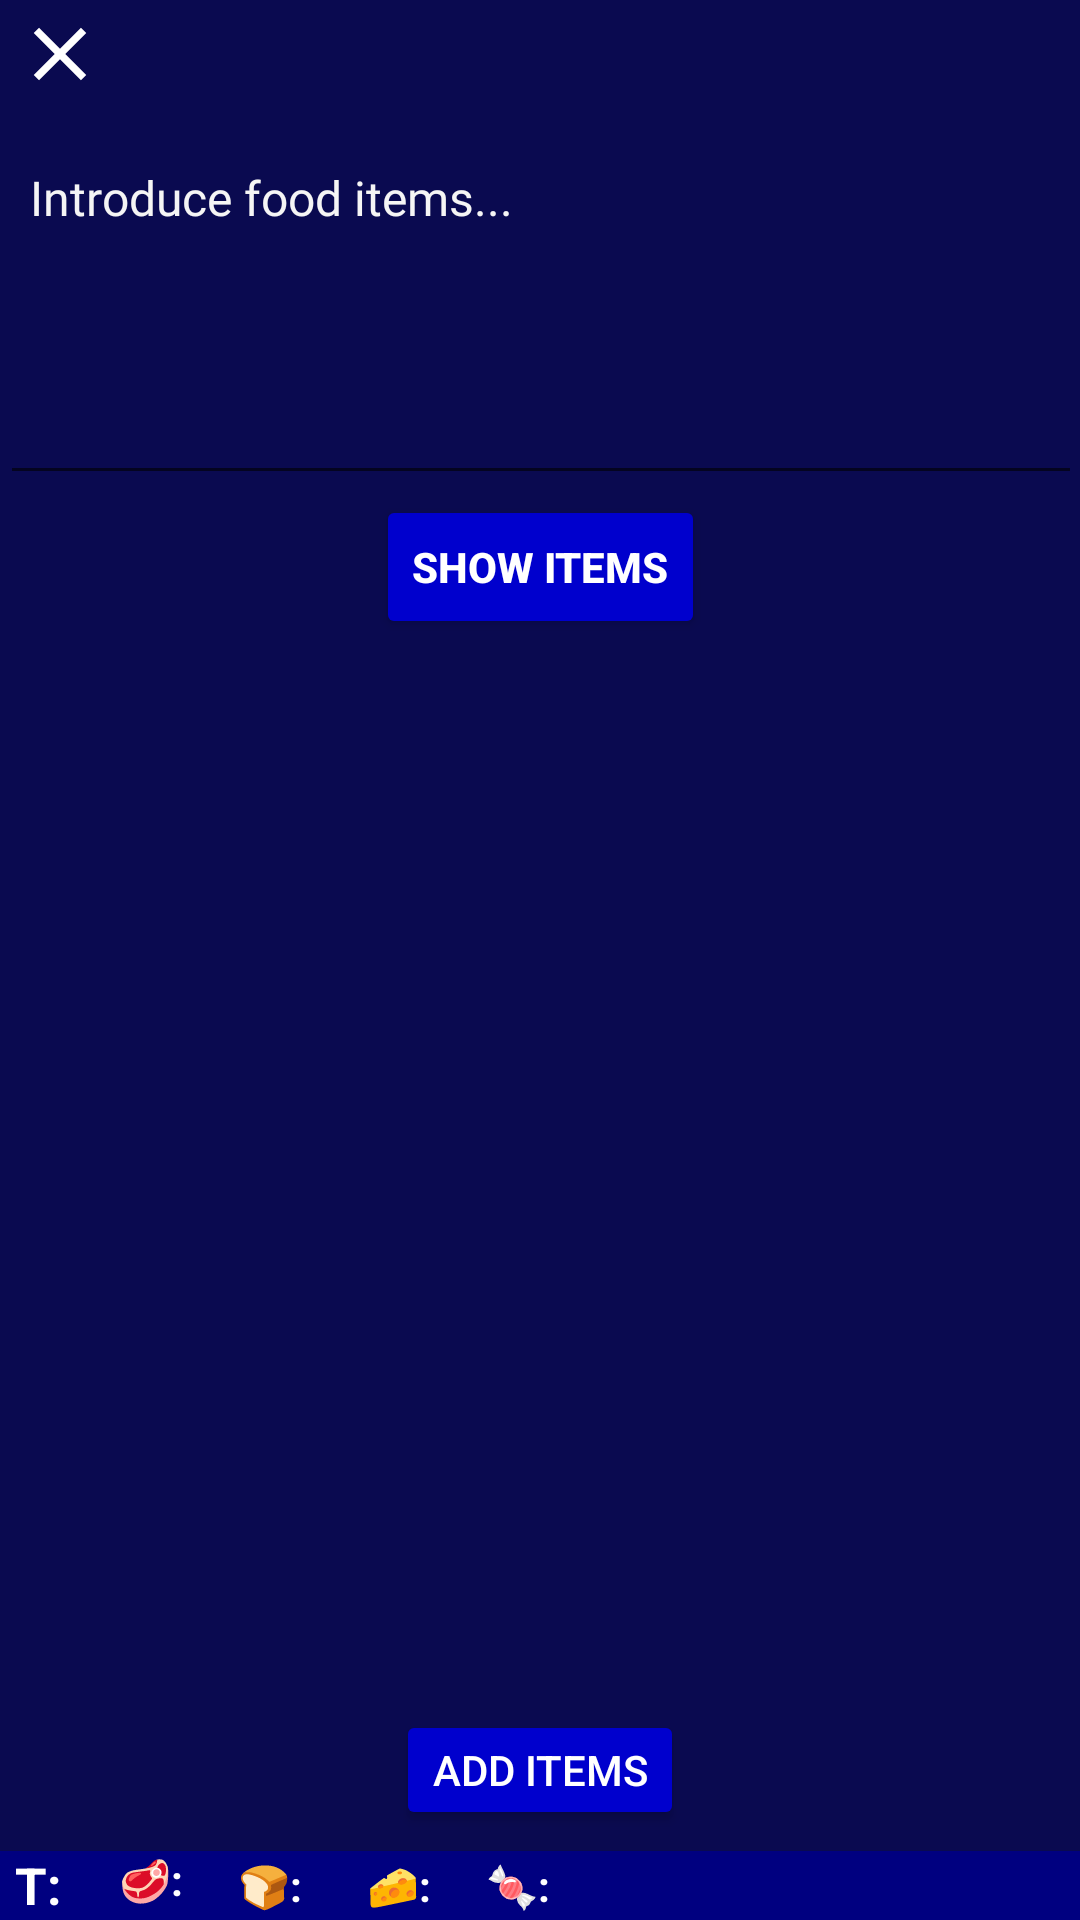

Point at icon controls on the screen. Image size 1080×1920, points as (x,y).
close: (60,54)
